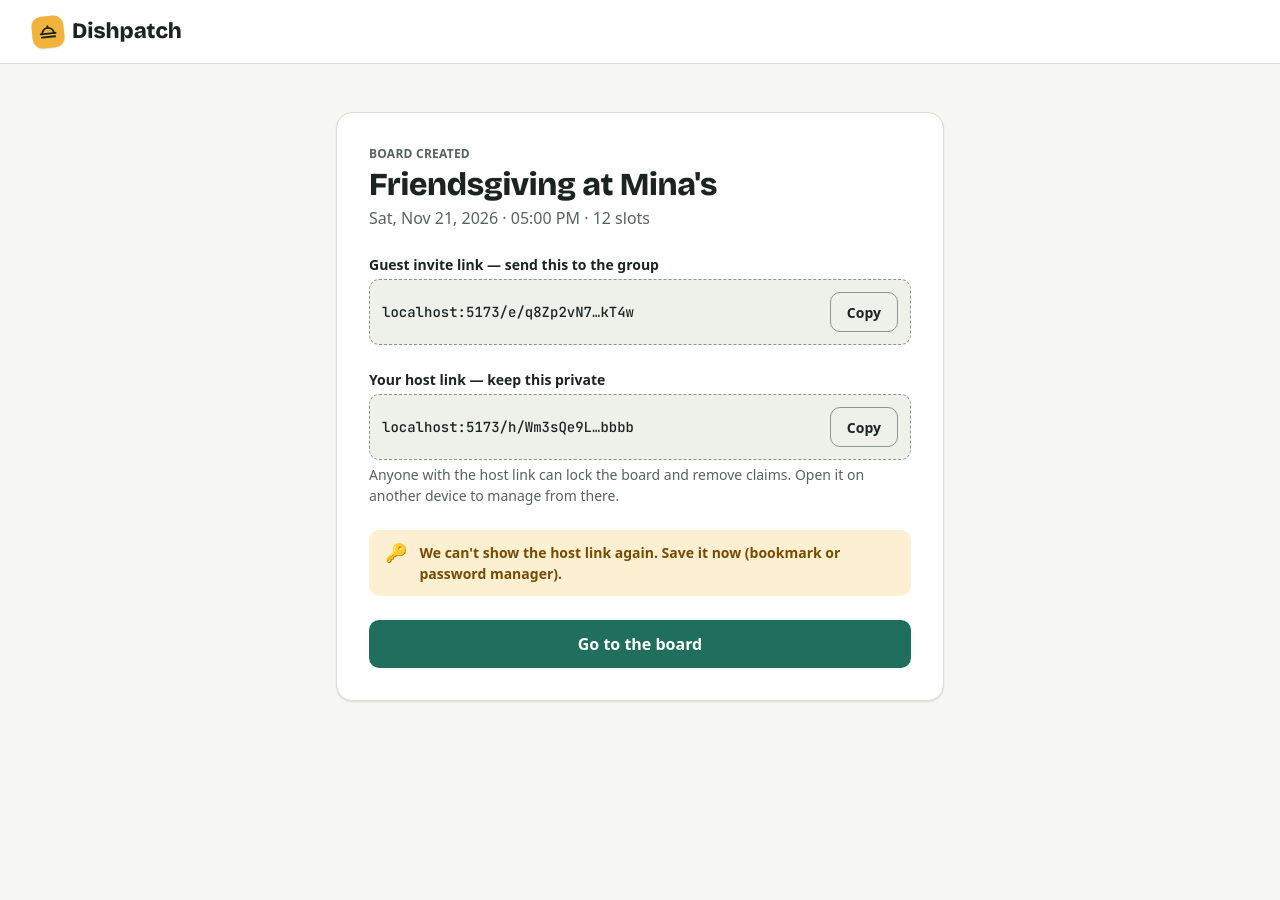
Test: ShareScreen › copy writes the invite link and shows a toast
Click the button with aria-label "Copy invite link" at x=864, y=312, box [830,292,898,332]
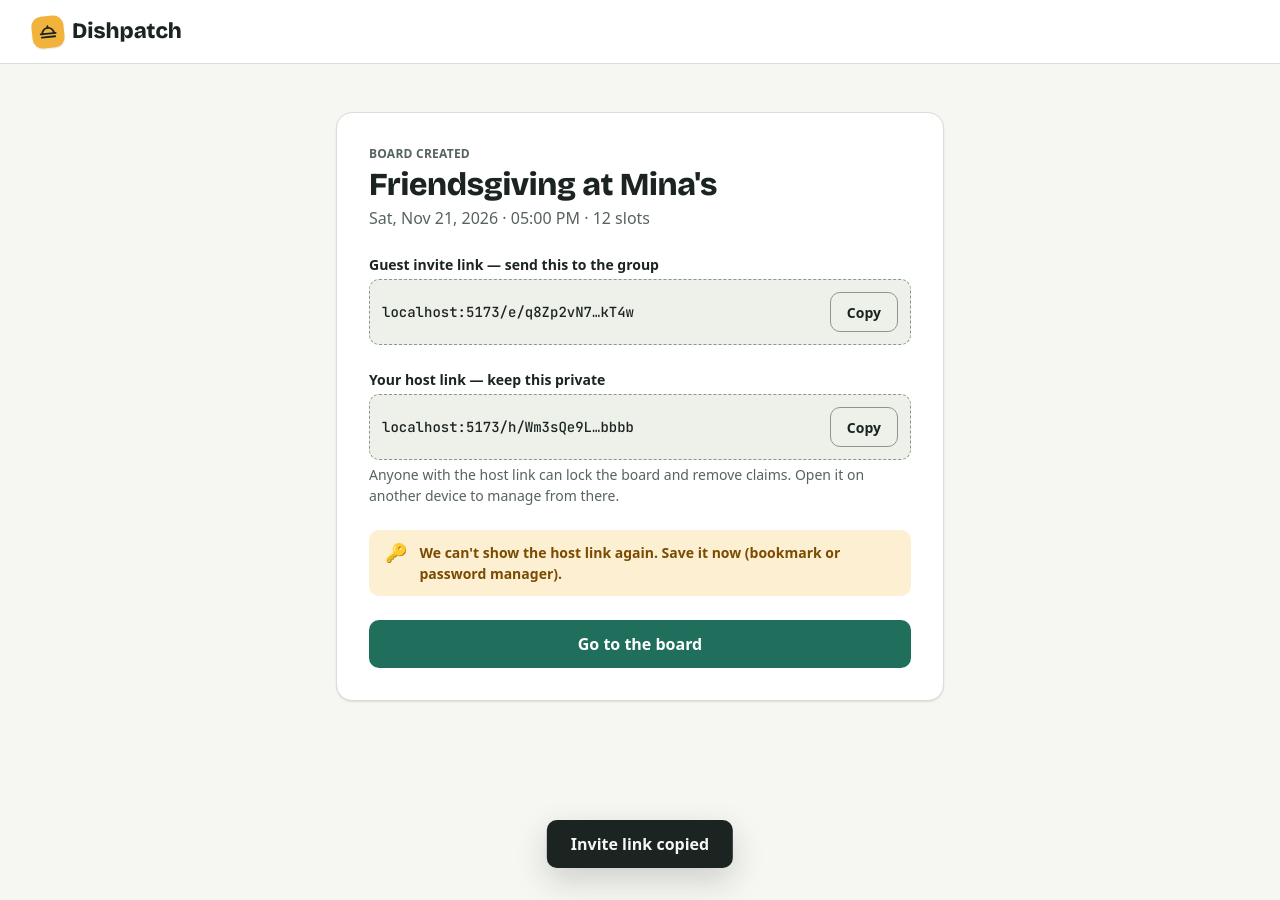
Result: the message reads "Invite link copied" at [571,833,709,855]
